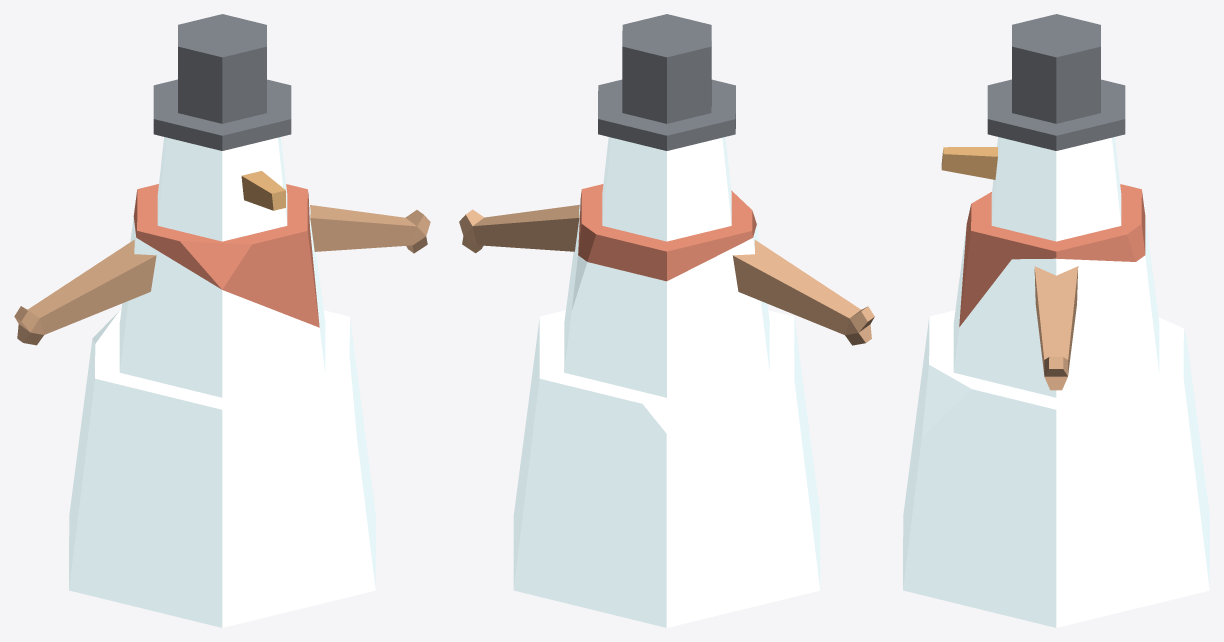
Rendered from snowman.glb.
3 renders of one model, left to right at view 1: azimuth 30°, elevation 25°; view 2: azimuth 150°, elevation 25°; view 3: azimuth 270°, elevation 25°, orthographic.
Visible parts, largest first — view 1: Mesh_snowmanFancy_2, Mesh_snowmanFancy, Mesh_snowmanFancy_1, Mesh_snowmanFancy_3, Mesh_snowmanFancy_4; view 2: Mesh_snowmanFancy_2, Mesh_snowmanFancy, Mesh_snowmanFancy_3, Mesh_snowmanFancy_1; view 3: Mesh_snowmanFancy_2, Mesh_snowmanFancy, Mesh_snowmanFancy_1, Mesh_snowmanFancy_3, Mesh_snowmanFancy_4.
Part boxes in pixels (<box>): Mesh_snowmanFancy_2: <box>69,137,375,627</box>; Mesh_snowmanFancy: <box>153,14,291,150</box>; Mesh_snowmanFancy_1: <box>133,184,319,327</box>; Mesh_snowmanFancy_3: <box>14,205,430,345</box>; Mesh_snowmanFancy_4: <box>241,171,285,210</box>; Mesh_snowmanFancy_2: <box>513,137,820,627</box>; Mesh_snowmanFancy: <box>598,14,735,150</box>; Mesh_snowmanFancy_3: <box>459,205,874,345</box>; Mesh_snowmanFancy_1: <box>578,184,756,281</box>; Mesh_snowmanFancy_2: <box>903,137,1209,627</box>; Mesh_snowmanFancy: <box>987,14,1125,150</box>; Mesh_snowmanFancy_1: <box>959,184,1145,326</box>; Mesh_snowmanFancy_3: <box>1034,266,1078,390</box>; Mesh_snowmanFancy_4: <box>941,147,997,179</box>.
Bounding box in the file's own units: 0.6935 × 0.8381 × 0.4507.
